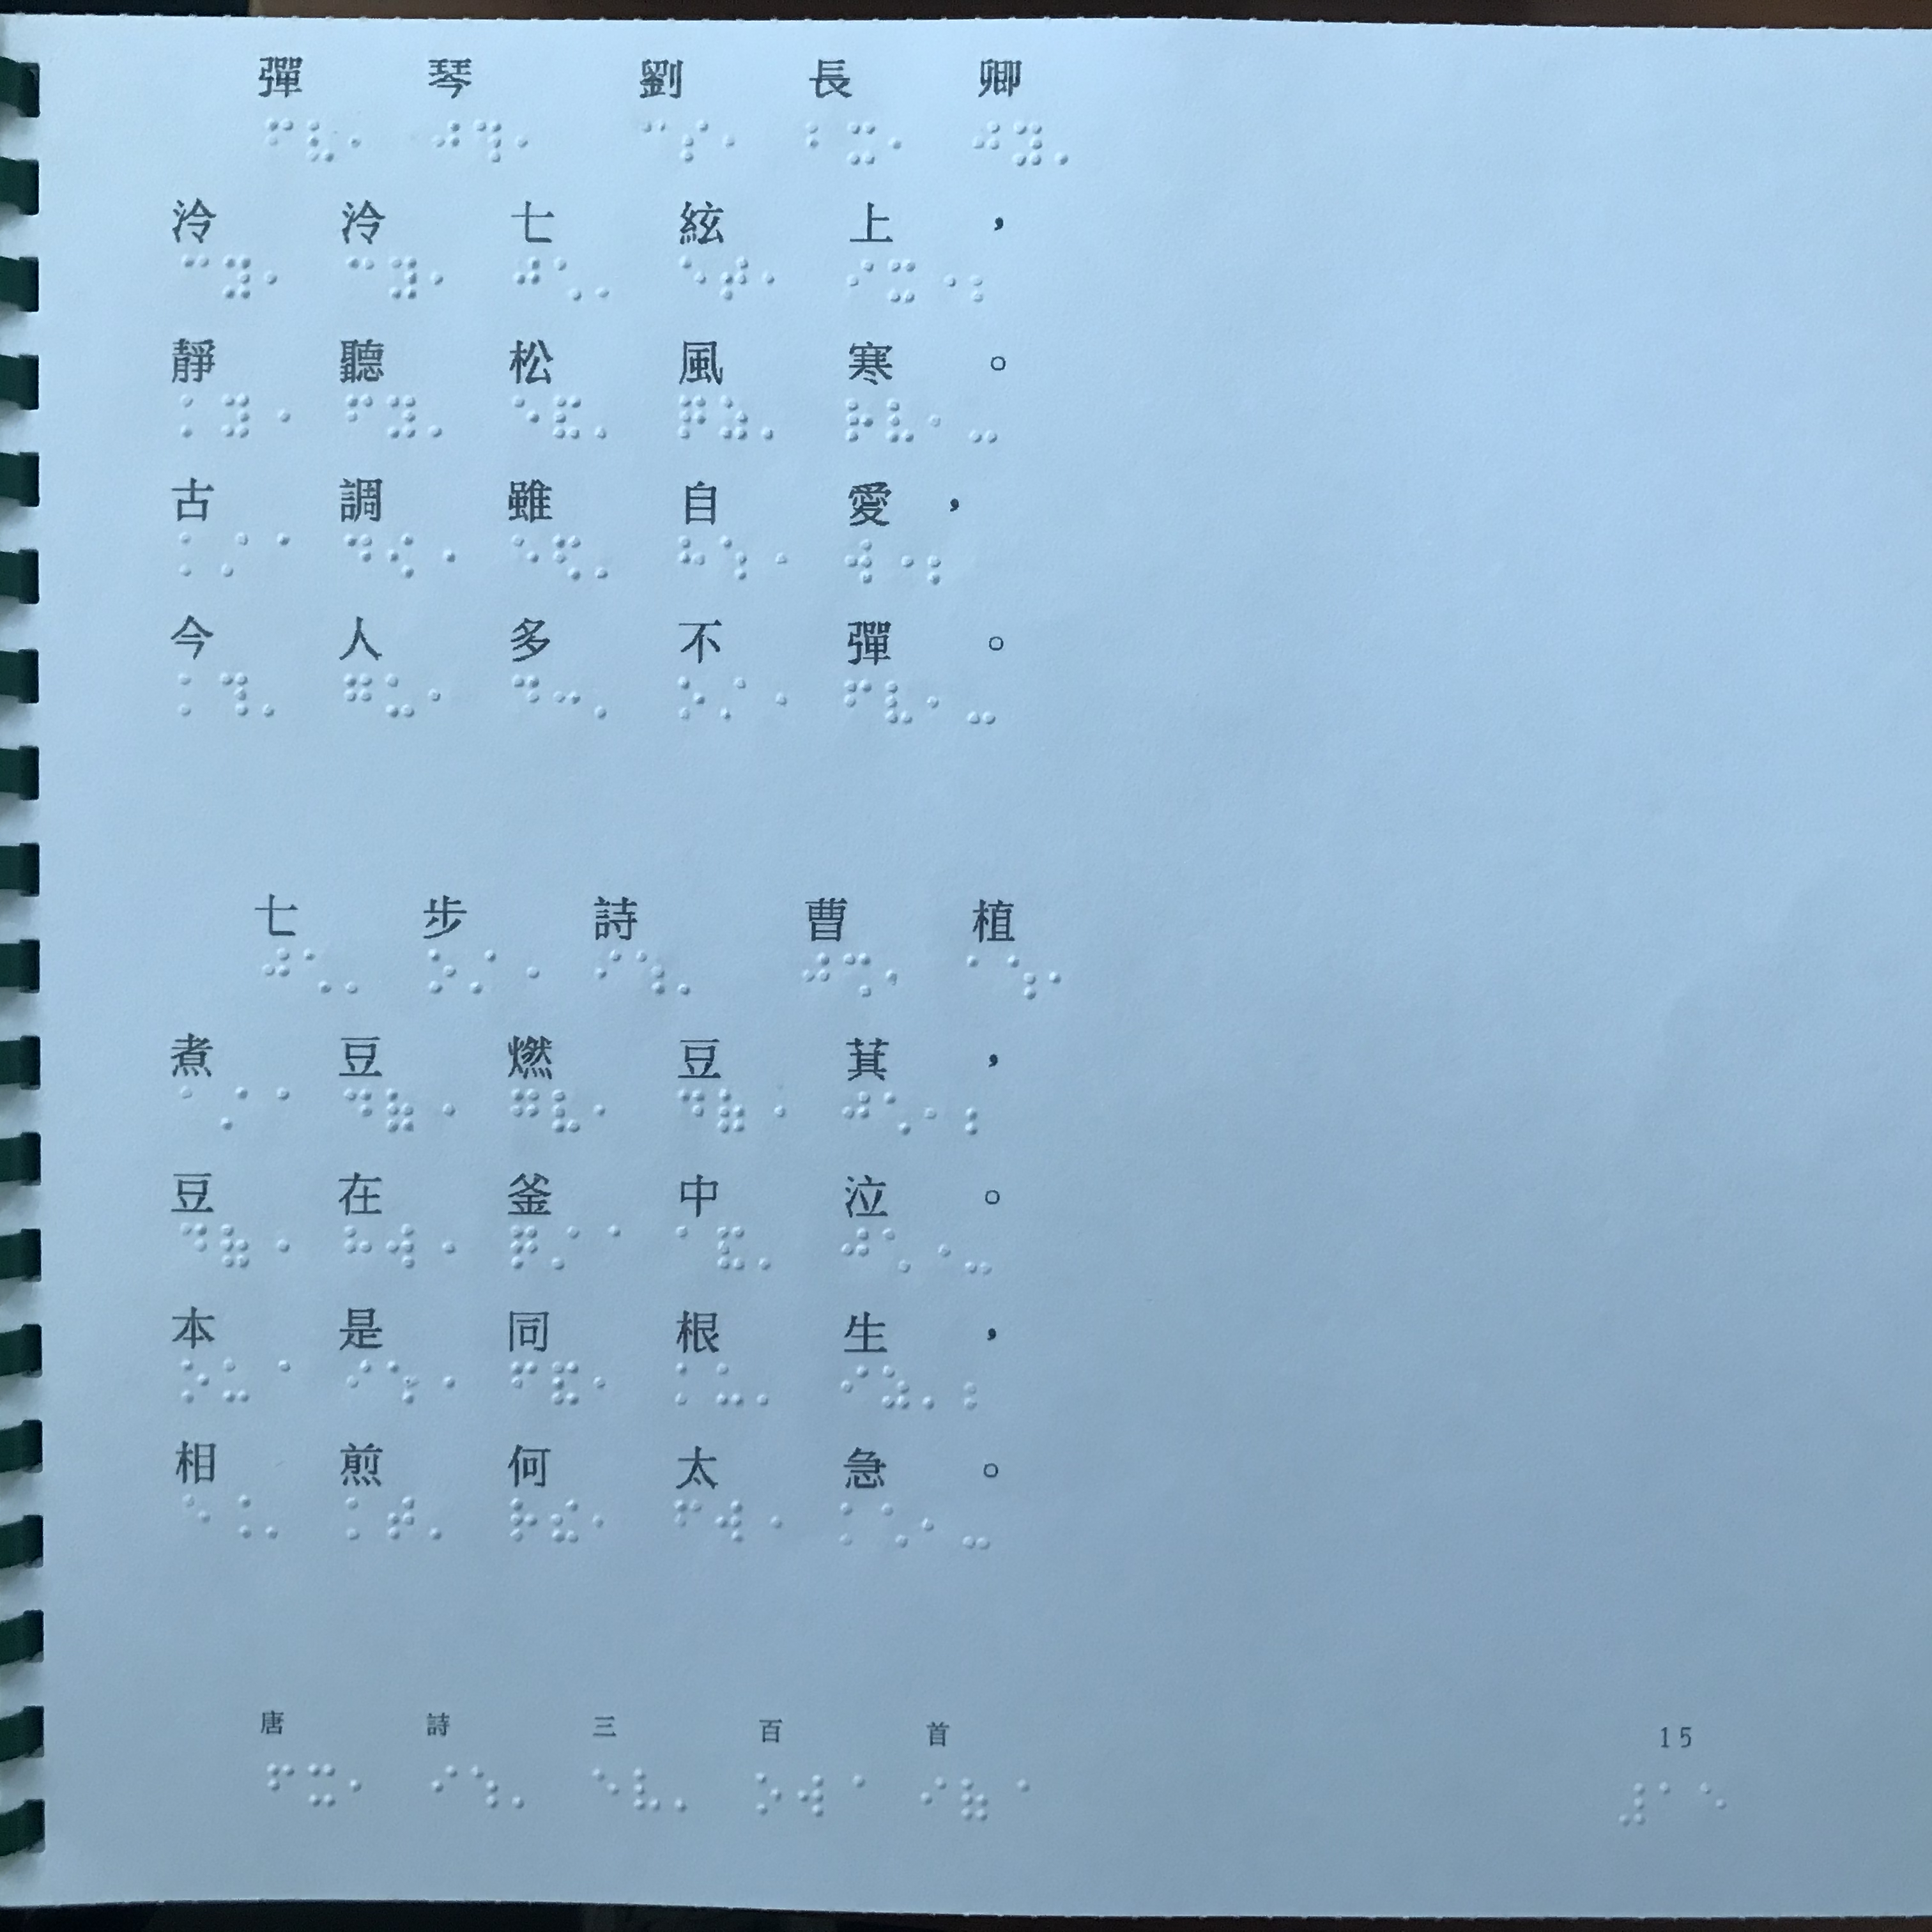Braille: (1010, 117, 1044, 170), (839, 1224, 872, 1277), (878, 1362, 911, 1415), (966, 393, 998, 448), (382, 1223, 416, 1274), (547, 1359, 580, 1410), (548, 1495, 580, 1548), (552, 534, 586, 584), (384, 672, 418, 722), (218, 1221, 251, 1270), (964, 1223, 994, 1277), (720, 251, 752, 303), (842, 393, 874, 444), (343, 533, 375, 584), (1008, 952, 1040, 1003), (219, 255, 255, 301), (510, 253, 543, 301), (713, 1226, 747, 1274), (835, 1362, 869, 1410), (888, 253, 918, 306), (885, 676, 915, 729), (966, 676, 996, 729), (554, 393, 586, 442), (676, 391, 708, 441), (384, 1088, 418, 1134), (886, 395, 916, 446), (844, 538, 874, 589), (343, 671, 373, 722), (552, 1221, 582, 1272), (796, 1766, 826, 1817), (221, 393, 253, 441), (676, 672, 708, 720), (718, 1085, 745, 1141), (474, 117, 504, 166), (681, 113, 711, 163), (720, 534, 750, 584), (426, 672, 456, 722), (718, 672, 748, 722), (510, 1223, 540, 1272), (715, 1361, 745, 1410), (552, 255, 584, 301), (343, 393, 375, 439), (387, 393, 419, 439), (757, 1361, 789, 1407), (386, 533, 414, 584), (554, 1088, 582, 1139), (885, 1226, 913, 1277), (223, 1355, 251, 1407), (387, 1357, 416, 1408), (593, 1359, 621, 1410), (633, 1766, 662, 1817), (846, 119, 876, 166), (389, 253, 419, 301), (847, 257, 878, 304), (720, 393, 750, 441), (221, 672, 251, 720), (510, 1088, 540, 1136), (179, 1219, 209, 1267), (345, 1493, 375, 1541), (918, 1771, 948, 1819), (347, 117, 375, 166), (973, 117, 1001, 166), (1054, 119, 1083, 168), (970, 257, 998, 306), (678, 534, 706, 584), (927, 538, 955, 587), (635, 947, 663, 996), (223, 1493, 251, 1543), (387, 1493, 416, 1543), (510, 1495, 538, 1545), (881, 1500, 909, 1550), (179, 393, 209, 439), (221, 531, 251, 577), (260, 533, 290, 579), (552, 674, 582, 720), (219, 1086, 249, 1132), (345, 1086, 375, 1132), (177, 1359, 207, 1405), (672, 1497, 702, 1543), (752, 1771, 782, 1817), (927, 395, 954, 446), (722, 110, 747, 165), (306, 117, 334, 165), (642, 115, 671, 163), (262, 393, 290, 441), (510, 534, 538, 582), (885, 540, 913, 587), (844, 678, 872, 725), (262, 943, 290, 991), (593, 945, 621, 993), (844, 950, 872, 998), (678, 1088, 706, 1136), (885, 1090, 913, 1138), (262, 1221, 290, 1269), (343, 1224, 372, 1272), (674, 1359, 702, 1407), (920, 1362, 948, 1410), (182, 1491, 211, 1539), (715, 1495, 743, 1543), (840, 1499, 869, 1546), (962, 1502, 991, 1550), (961, 1778, 989, 1826), (260, 1088, 290, 1132), (1000, 1778, 1030, 1822), (761, 251, 787, 301), (759, 393, 786, 442), (842, 1088, 869, 1138), (968, 1086, 994, 1136), (596, 1221, 621, 1274), (961, 1362, 987, 1412), (265, 113, 294, 159), (886, 120, 915, 166), (596, 676, 625, 722), (510, 1359, 538, 1405), (469, 1764, 497, 1810), (180, 255, 212, 295), (885, 952, 909, 1003), (925, 1226, 950, 1277), (430, 534, 456, 582), (262, 672, 288, 720), (304, 947, 331, 994), (803, 950, 830, 998), (761, 1090, 787, 1138), (428, 1224, 455, 1272), (428, 1493, 455, 1541), (925, 676, 948, 731), (347, 253, 375, 297), (428, 948, 456, 993), (267, 1760, 295, 1805), (839, 1769, 867, 1813), (805, 113, 830, 163), (932, 257, 957, 306), (764, 674, 789, 724), (593, 1495, 617, 1545), (920, 1500, 945, 1550), (517, 117, 543, 163), (513, 393, 540, 439), (515, 674, 541, 720), (264, 1355, 290, 1401), (757, 1499, 784, 1545), (681, 251, 706, 299), (428, 393, 453, 441), (180, 529, 205, 577), (179, 672, 203, 720), (471, 945, 495, 993), (676, 950, 701, 998), (676, 1221, 701, 1269), (593, 1766, 617, 1813), (764, 534, 787, 586), (264, 255, 290, 299), (511, 950, 538, 994), (345, 1361, 372, 1405), (510, 1766, 536, 1810), (674, 1767, 701, 1812), (428, 251, 453, 297), (596, 257, 621, 303), (596, 395, 621, 441), (598, 534, 623, 580), (1051, 955, 1076, 1001), (593, 1086, 616, 1136), (924, 1088, 947, 1138), (432, 1359, 455, 1408), (310, 1762, 334, 1808), (757, 1228, 784, 1270), (432, 1762, 458, 1805), (435, 117, 460, 161), (966, 954, 991, 998), (430, 1088, 455, 1132), (265, 1495, 290, 1539), (180, 1088, 205, 1131), (347, 950, 370, 994), (349, 1762, 372, 1806)
